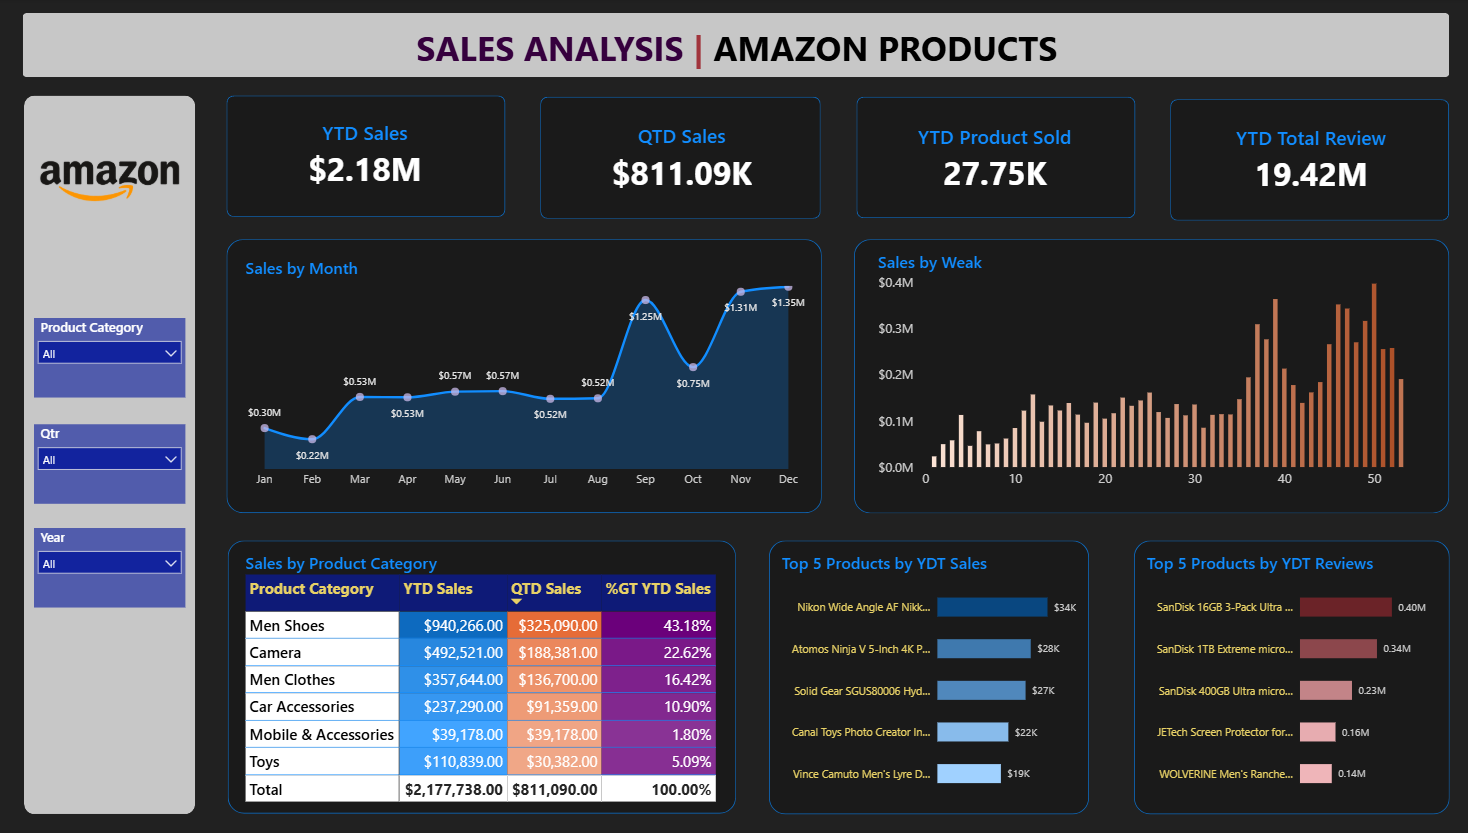

This screenshot's page, from the dashboard's own definition file:
{"tool":"powerbi","page":{"name":"Page 1","canvas":[1920,1080],"ordinal":0},"visuals":[{"type":"shape","box":[30.3,19.5,1778.9,80.1],"z":0},{"type":"shape","box":[30.6,122.2,213.9,895.3],"z":1000},{"type":"shape","box":[283.7,121.6,347.7,151.5],"z":2000},{"type":"shape","box":[675.4,122.8,349.7,152.2],"z":3000},{"type":"shape","box":[1068.8,123.7,347.7,151.5],"z":4000},{"type":"shape","box":[1461.3,125.9,347.7,151.5],"z":5000},{"type":"cardVisual","fields":{"Data":["Amazon_data.QTD Sales"]},"box":[678.4,121.6,347.7,155.7],"z":6000},{"type":"cardVisual","fields":{"Data":["Amazon_data.YTD Sales"]},"box":[283.7,123.7,345.6,145.1],"z":7000},{"type":"cardVisual","fields":{"Data":["Amazon_data.YTD Product Sold"]},"box":[1068.8,125.9,345.6,147.2],"z":8000},{"type":"cardVisual","fields":{"Data":["Amazon_data.YTD Total Review"]},"box":[1463.5,125.9,345.6,151.5],"z":9000},{"type":"shape","box":[284,300.2,742.5,341.6],"z":10000},{"type":"areaChart","title":"Sales by Month","fields":{"Category":["Date table.Month Name"],"Y":["Sum(Amazon_data.Price(Dollar))"]},"box":[291.5,308.7,732.7,322.7],"z":11000},{"type":"shape","box":[1066.9,300.8,742.3,341.9],"z":12000},{"type":"shape","box":[284.7,676.3,633.9,340.7],"z":13000},{"type":"pivotTable","title":"Sales by Product Category","fields":{"Rows":["Amazon_data.Product Category"],"Values":["Amazon_data.YTD Sales1","Amazon_data.QTD Sales","Amazon_data.YTD Sales"]},"box":[291.5,676.3,622,342.4],"z":14000},{"type":"clusteredColumnChart","title":"Sales by Weak","fields":{"Category":["Date table.Weak Number"],"Y":["Sum(Amazon_data.Price(Dollar))"]},"box":[1079.9,300.8,716.3,331.1],"z":15000},{"type":"shape","box":[960,676,399.1,341.6],"z":16000},{"type":"barChart","title":"Top 5 Products by YDT Sales ","fields":{"Category":["Amazon_data.Product Description"],"Y":["Amazon_data.YTD Sales"]},"box":[960,676,399.1,341.6],"z":17000},{"type":"shape","box":[1414.8,676,393.7,341.6],"z":18000},{"type":"barChart","title":"Top 5 Products by YDT Reviews","fields":{"Category":["Amazon_data.Product Description"],"Y":["Amazon_data.YTD Total Review"]},"box":[1414.8,676,393.7,341.6],"z":19000},{"type":"slicer","fields":{"Values":["Amazon_data.Product Category"]},"box":[43.1,399.1,188.8,98.9],"z":20000},{"type":"slicer","fields":{"Values":["Date table.Qtr"]},"box":[43.1,532.1,188.8,98.9],"z":21000},{"type":"image","box":[45.4,125.5,186.1,199.1],"z":22000},{"type":"slicer","fields":{"Values":["Date table.Year"]},"box":[43.1,661.6,188.8,98.9],"z":23000},{"type":"textbox","box":[30.6,32.4,1778,66.5],"z":24000}]}

Visuals, with their boxes in screenshot pixels (x1, y1, x2, y2), scaled from the page's 1920x1080 canvas onto the 1468x833 screenshot:
shape: pyautogui.locateOnScreen(23, 15, 1383, 77)
shape: pyautogui.locateOnScreen(23, 94, 187, 785)
shape: pyautogui.locateOnScreen(217, 94, 483, 211)
shape: pyautogui.locateOnScreen(516, 95, 784, 212)
shape: pyautogui.locateOnScreen(817, 95, 1083, 212)
shape: pyautogui.locateOnScreen(1117, 97, 1383, 214)
cardVisual - Amazon_data.QTD Sales: pyautogui.locateOnScreen(519, 94, 785, 214)
cardVisual - Amazon_data.YTD Sales: pyautogui.locateOnScreen(217, 95, 481, 207)
cardVisual - Amazon_data.YTD Product Sold: pyautogui.locateOnScreen(817, 97, 1081, 211)
cardVisual - Amazon_data.YTD Total Review: pyautogui.locateOnScreen(1119, 97, 1383, 214)
shape: pyautogui.locateOnScreen(217, 232, 785, 495)
"Sales by Month" areaChart: pyautogui.locateOnScreen(223, 238, 783, 487)
shape: pyautogui.locateOnScreen(816, 232, 1383, 496)
shape: pyautogui.locateOnScreen(218, 522, 702, 784)
"Sales by Product Category" pivotTable: pyautogui.locateOnScreen(223, 522, 698, 786)
"Sales by Weak" clusteredColumnChart: pyautogui.locateOnScreen(826, 232, 1373, 487)
shape: pyautogui.locateOnScreen(734, 521, 1039, 785)
"Top 5 Products by YDT Sales " barChart: pyautogui.locateOnScreen(734, 521, 1039, 785)
shape: pyautogui.locateOnScreen(1082, 521, 1383, 785)
"Top 5 Products by YDT Reviews" barChart: pyautogui.locateOnScreen(1082, 521, 1383, 785)
slicer - Amazon_data.Product Category: pyautogui.locateOnScreen(33, 308, 177, 384)
slicer - Date table.Qtr: pyautogui.locateOnScreen(33, 410, 177, 487)
image: pyautogui.locateOnScreen(35, 97, 177, 250)
slicer - Date table.Year: pyautogui.locateOnScreen(33, 510, 177, 587)
textbox: pyautogui.locateOnScreen(23, 25, 1383, 76)
